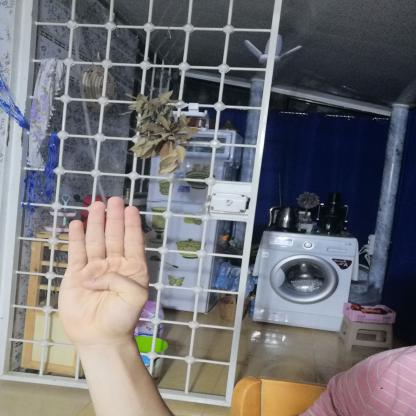KAAF: (42, 185, 164, 355)
